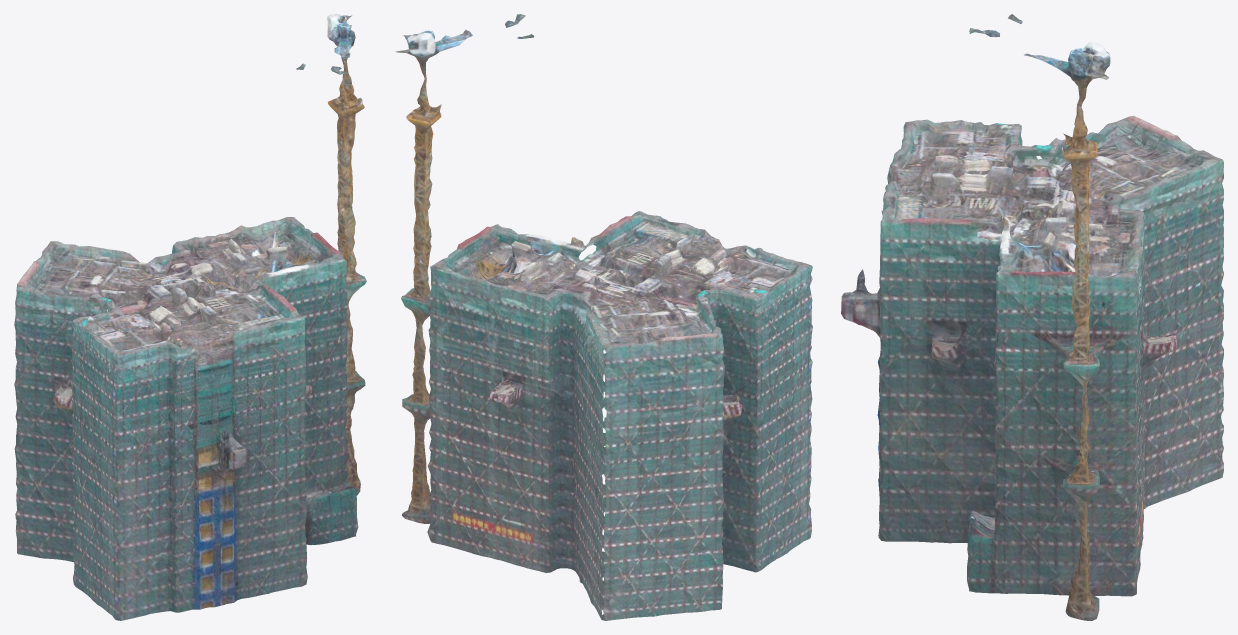
The model's file is Tile_+002_+007_L20_000100t4.glb.
3 views of the same model, side by side, from view 1: azimuth 30°, elevation 25°; view 2: azimuth 150°, elevation 25°; view 3: azimuth 270°, elevation 25° (orthographic). The views are drawn at different scales.
Parts seen in each view (by area): view 1: rtc; view 2: rtc; view 3: rtc.
Part boxes in pixels (x1,y1,x2,y2): rtc: [14, 14, 366, 620]; rtc: [395, 14, 812, 620]; rtc: [841, 14, 1223, 620].
Bounding box in the file's own units: 29.56 × 40.83 × 25.09.
5 materials, 5 textured.
